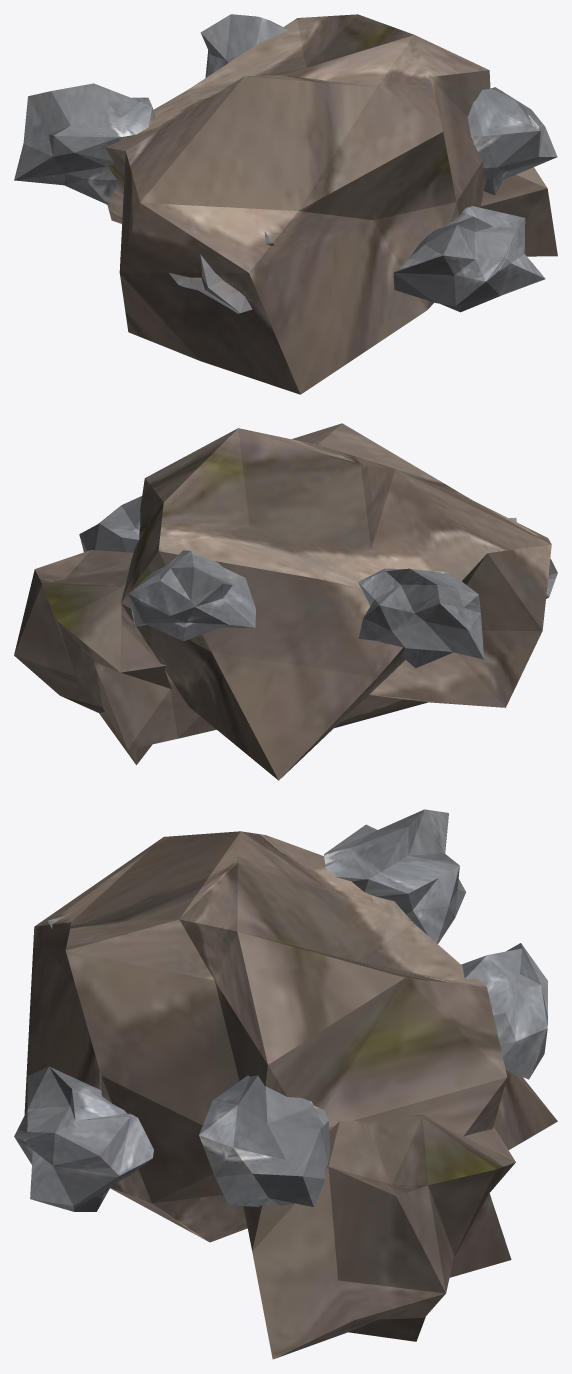
Rendered from silver_ore.glb.
3 views of the same model, one above another, from view 1: azimuth 30°, elevation 25°; view 2: azimuth 150°, elevation 25°; view 3: azimuth 270°, elevation 25° (orthographic). The views are drawn at different scales.
Visible parts, largest first — view 1: model; view 2: model; view 3: model.
Part boxes in pixels (box(x1,y1,x2,y2)): model: box(14, 14, 557, 394); model: box(14, 423, 557, 780); model: box(14, 809, 557, 1359).
Size of the model in its own units: 0.2611 by 0.1609 by 0.204.
Materials: 3 (3 with a texture image).
